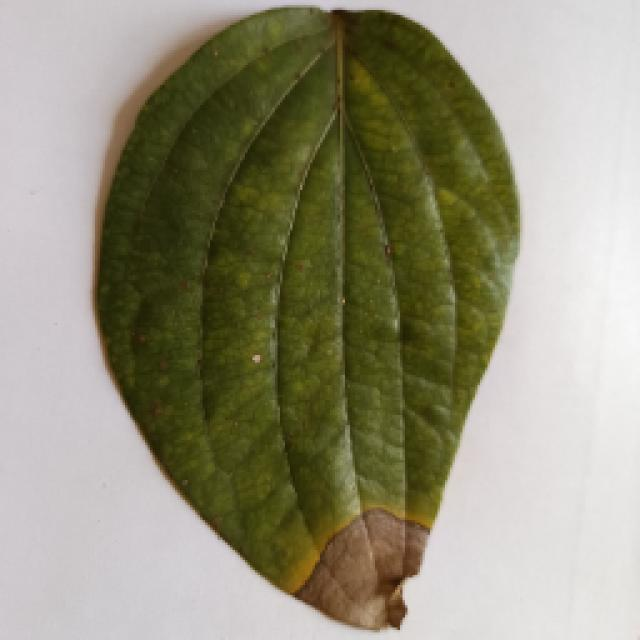footrot: (92, 12, 518, 630)
